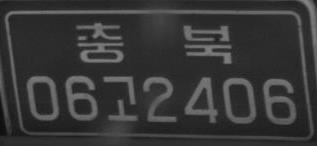0: (222, 76, 257, 124), (26, 74, 59, 121)
2: (142, 74, 176, 122)
4: (183, 77, 218, 124)
6: (262, 76, 296, 126), (65, 74, 98, 121)
고: (103, 74, 137, 121)
충북_D: (75, 21, 232, 64)
